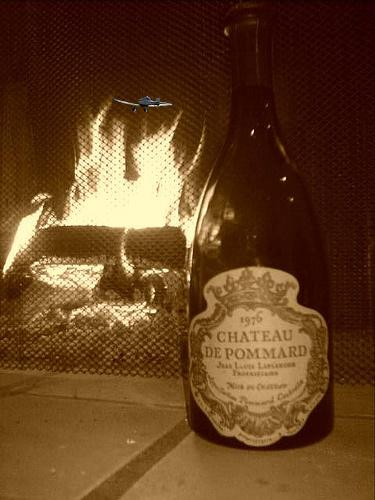tampered: (113, 97, 173, 112)
